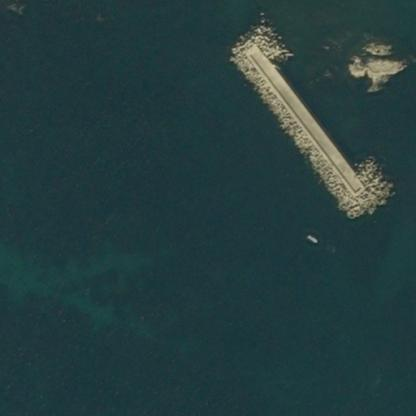ship: (301, 228, 321, 250)
